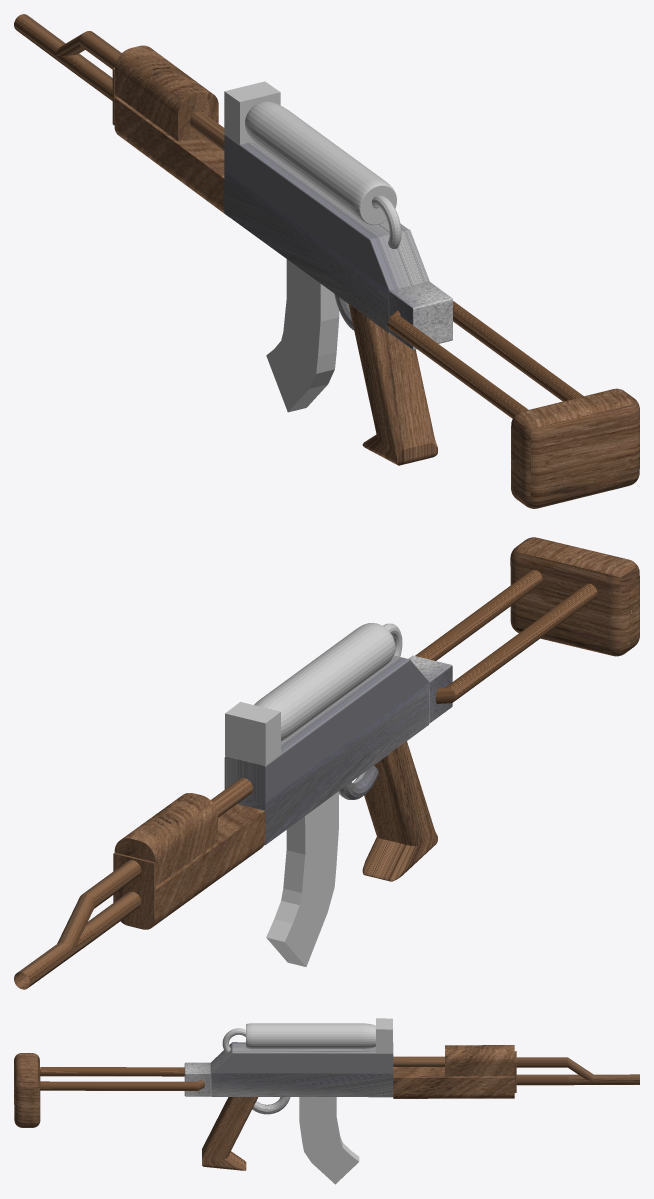
Rendered from RayKay69.fbx.
3 renders of one model, top to bottom at view 1: azimuth 30°, elevation 25°; view 2: azimuth 150°, elevation 25°; view 3: azimuth 270°, elevation 25°, orthographic. The views are drawn at different scales.
Visible parts, largest first — view 1: Receiver, ButtStock, Front, EBlock, Handle, Mag; view 2: Receiver, Front, ButtStock, EBlock, Mag, Handle; view 3: Receiver, Front, ButtStock, EBlock, Mag, Handle.
Part boxes in pixels (x1=…): Receiver: x1=224, y1=134, x2=452, y2=349; ButtStock: x1=387, y1=301, x2=639, y2=508; Front: x1=14, y1=14, x2=228, y2=216; EBlock: x1=224, y1=81, x2=401, y2=248; Handle: x1=348, y1=304, x2=437, y2=465; Mag: x1=266, y1=259, x2=339, y2=412; Receiver: x1=224, y1=655, x2=452, y2=845; Front: x1=14, y1=778, x2=265, y2=989; ButtStock: x1=415, y1=537, x2=639, y2=703; EBlock: x1=225, y1=623, x2=402, y2=765; Mag: x1=266, y1=791, x2=338, y2=966; Handle: x1=362, y1=741, x2=437, y2=881; Receiver: x1=184, y1=1042, x2=393, y2=1114; Front: x1=393, y1=1045, x2=639, y2=1098; ButtStock: x1=14, y1=1053, x2=204, y2=1127; EBlock: x1=222, y1=1018, x2=392, y2=1053; Mag: x1=299, y1=1097, x2=359, y2=1184; Handle: x1=202, y1=1097, x2=258, y2=1170.
Size of the model in its own units: 571 by 1341 by 4810.
